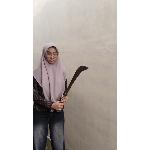Golok: (57, 64, 91, 110)
